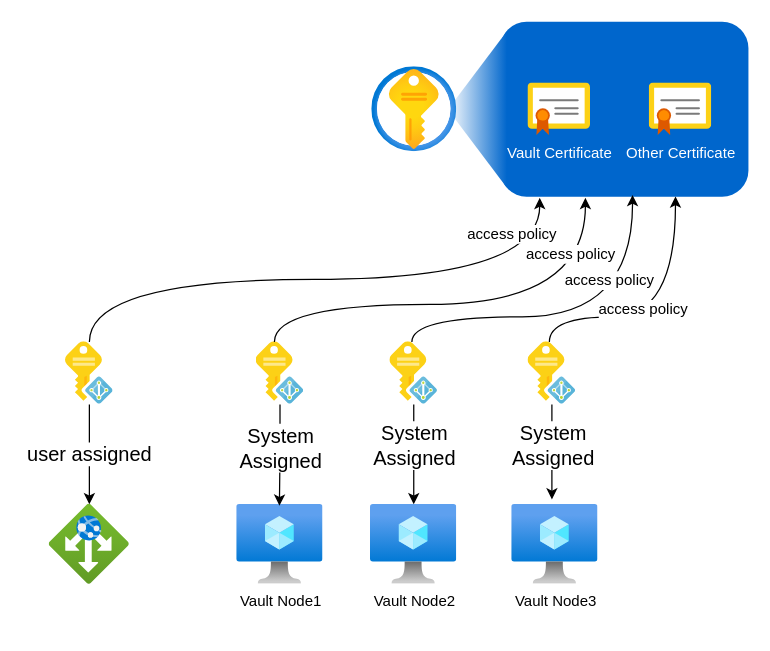
The diagram is 770 pixels wide and 651 high, and some of its shapes have lost their labels. Here are the shapes that lost their labels. From the top down, the box of each, then its label:
(371, 66, 456, 151): Keyvault
(49, 504, 129, 584): Private Application Gateway
